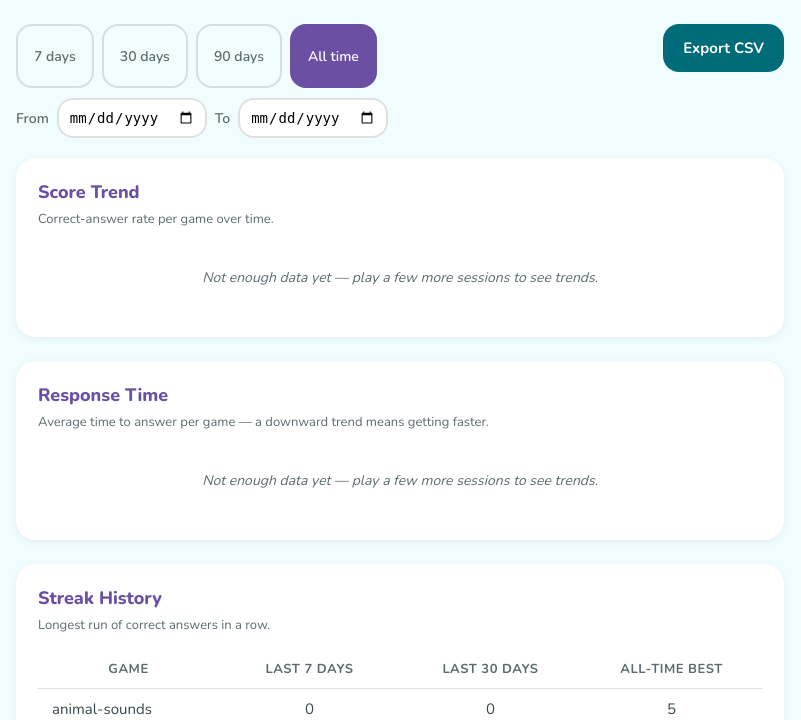
ParentDashboard — date range filter › shows each section's existing empty-state messaging when the range matches nothing, without crashing
The width and height of the screenshot is (801, 720).
Click the tab "7 days".
click(55, 56)  # box [16,24,94,88]
(page scrolled)
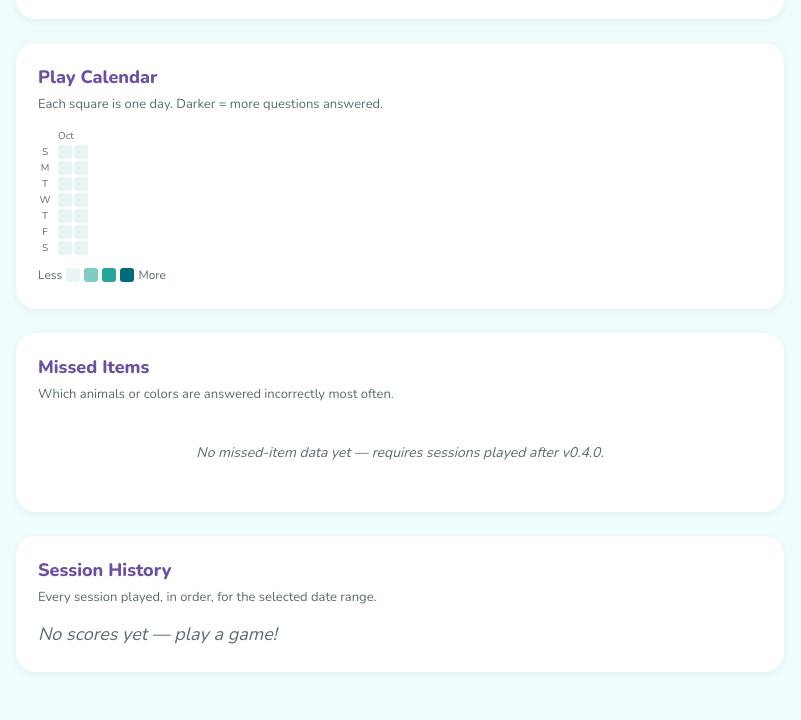
Now the text "No missed-item data yet" is shown, box [196,443,604,462]
Now the text "No scores yet — play a game!" is shown, box [38,622,277,646]
